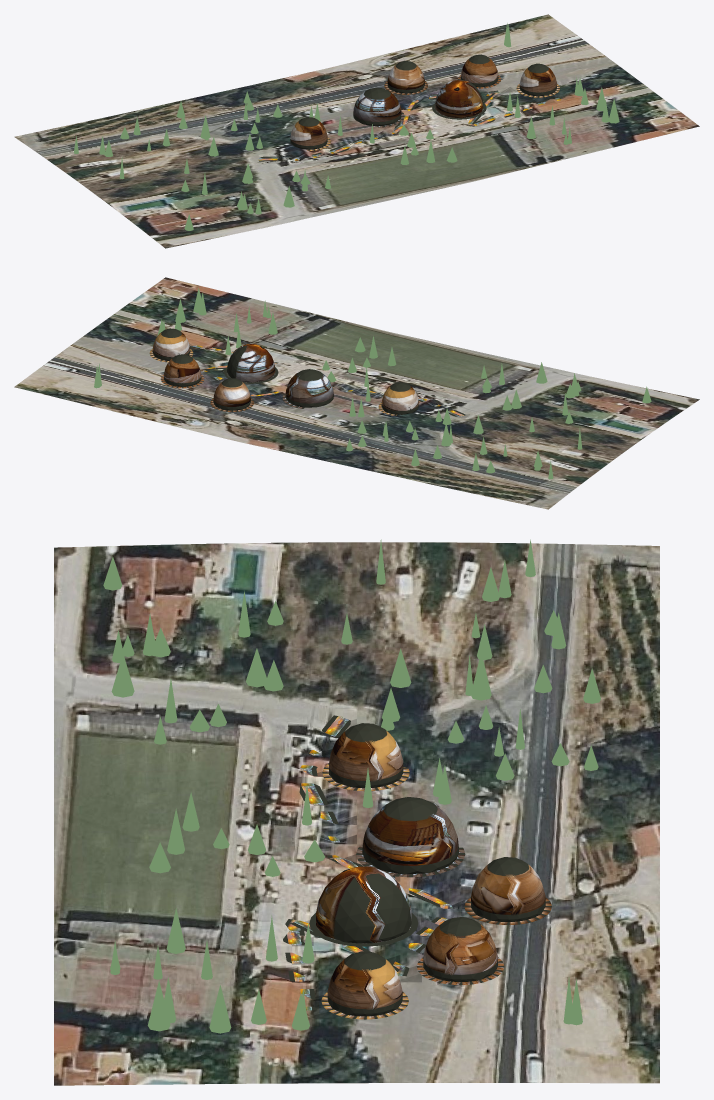
The model's file is aumara-site-v2.glb.
The picture shows the model from 3 angles, top to bottom: view 1: azimuth 30°, elevation 25°; view 2: azimuth 150°, elevation 25°; view 3: azimuth 270°, elevation 25°; orthographic projection. The views are drawn at different scales.
Visible parts, largest first — view 1: terrain, veg, house_D, house_B, house_F, house_C, house_A, path, house_E; view 2: terrain, veg, house_D, house_B, house_E, house_C, house_A, house_F, path; view 3: terrain, veg, house_D, house_B, house_F, house_E, house_C, house_A, path.
Boxes of the visible parts, x1=… form: terrain: x1=14, y1=14, x2=699, y2=248; veg: x1=73, y1=23, x2=619, y2=230; house_D: x1=432, y1=79, x2=486, y2=119; house_B: x1=353, y1=87, x2=404, y2=127; house_F: x1=516, y1=63, x2=560, y2=97; house_C: x1=384, y1=60, x2=427, y2=94; house_A: x1=290, y1=117, x2=330, y2=150; path: x1=258, y1=90, x2=561, y2=161; house_E: x1=457, y1=54, x2=501, y2=88; terrain: x1=14, y1=277, x2=699, y2=509; veg: x1=94, y1=288, x2=651, y2=479; house_D: x1=224, y1=344, x2=278, y2=383; house_B: x1=282, y1=369, x2=333, y2=408; house_E: x1=160, y1=354, x2=204, y2=388; house_C: x1=210, y1=378, x2=253, y2=411; house_A: x1=378, y1=382, x2=419, y2=415; house_F: x1=149, y1=328, x2=193, y2=362; path: x1=189, y1=345, x2=465, y2=416; terrain: x1=54, y1=542, x2=659, y2=1085; veg: x1=103, y1=539, x2=600, y2=1033; house_D: x1=309, y1=866, x2=418, y2=946; house_B: x1=356, y1=797, x2=465, y2=877; house_F: x1=321, y1=951, x2=408, y2=1019; house_E: x1=416, y1=917, x2=504, y2=985; house_C: x1=464, y1=857, x2=551, y2=925; house_A: x1=322, y1=723, x2=409, y2=791; path: x1=283, y1=715, x2=452, y2=1010.
Bounding box in the file's own units: 114 × 7.04 × 56.
9 materials, 8 textured.
